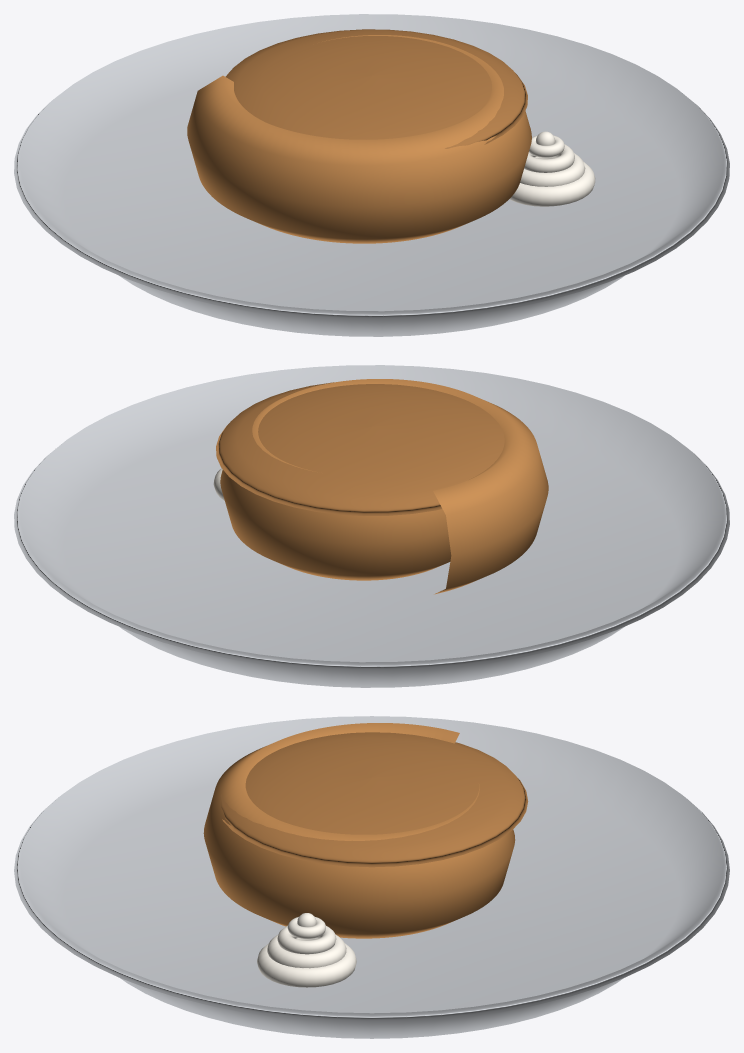
File: alba-cinnamon-roll.glb
3 views of the same model, one above another, from view 1: azimuth 30°, elevation 25°; view 2: azimuth 150°, elevation 25°; view 3: azimuth 270°, elevation 25° (orthographic).
Bounding box in the file's own units: 0.22 × 0.0465 × 0.22.
